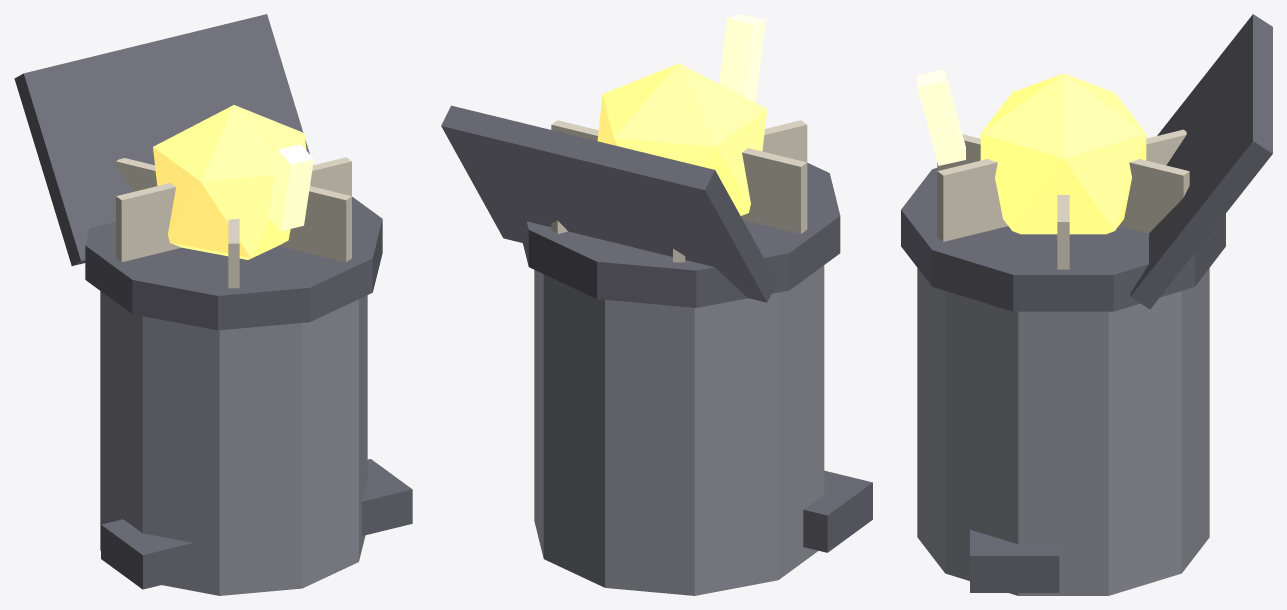
The model's file is enemy_bomber.glb.
3 renders of one model, left to right at view 1: azimuth 30°, elevation 25°; view 2: azimuth 150°, elevation 25°; view 3: azimuth 270°, elevation 25°, orthographic. The views are drawn at different scales.
Parts seen in each view (by area): view 1: Bin, Lid, Rim, Fire, Wheel-1, Sheet3, Sheet5, Fuse, Wheel1, Sheet0, Sheet2, Sheet4; view 2: Bin, Lid, Rim, Fire, Sheet3, Wheel-1, Fuse, Sheet4; view 3: Bin, Fire, Rim, Lid, Wheel1, Sheet5, Sheet1, Fuse, Sheet0, Sheet2, Sheet4.
Boxes of the visible parts, bbox=[...] form: Bin: bbox=[100, 291, 367, 595]; Lid: bbox=[14, 14, 309, 265]; Rim: bbox=[85, 196, 382, 330]; Fire: bbox=[153, 105, 310, 259]; Wheel-1: bbox=[101, 519, 193, 589]; Sheet3: bbox=[116, 183, 181, 261]; Sheet5: bbox=[279, 186, 351, 262]; Fuse: bbox=[268, 144, 313, 231]; Wheel1: bbox=[362, 459, 412, 535]; Sheet0: bbox=[310, 157, 351, 195]; Sheet2: bbox=[116, 158, 157, 191]; Sheet4: bbox=[228, 218, 239, 288]; Bin: bbox=[534, 265, 824, 595]; Lid: bbox=[441, 105, 777, 302]; Rim: bbox=[523, 162, 840, 307]; Fire: bbox=[597, 63, 766, 215]; Sheet3: bbox=[741, 148, 807, 233]; Wheel-1: bbox=[803, 470, 872, 552]; Fuse: bbox=[719, 14, 765, 102]; Sheet4: bbox=[762, 120, 807, 162]; Bin: bbox=[917, 268, 1209, 595]; Fire: bbox=[980, 73, 1146, 234]; Rim: bbox=[901, 168, 1225, 311]; Lid: bbox=[1130, 14, 1272, 309]; Wheel1: bbox=[970, 529, 1059, 592]; Sheet5: bbox=[937, 159, 1007, 241]; Sheet1: bbox=[1119, 159, 1189, 233]; Fuse: bbox=[917, 69, 965, 165]; Sheet0: bbox=[1057, 195, 1069, 269]; Sheet2: bbox=[1146, 129, 1186, 165]; Sheet4: bbox=[937, 134, 980, 170].
Size of the model in its own units: 0.82 by 1.26 by 0.9155.
